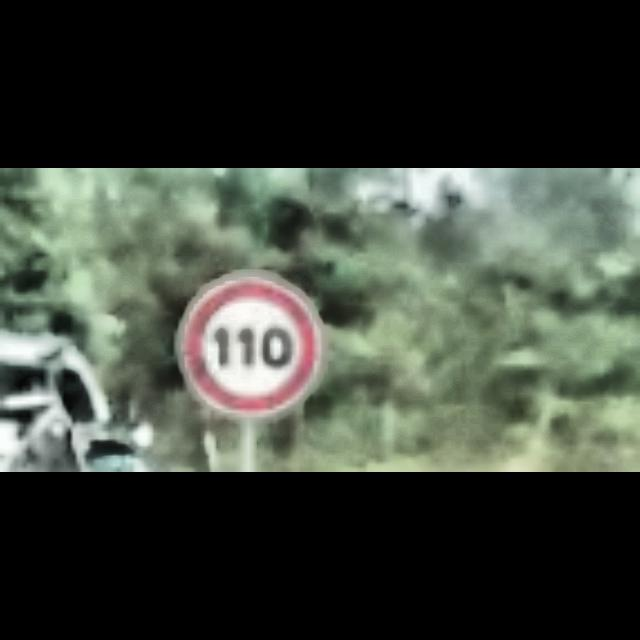speed_110: (177, 273, 329, 421)
